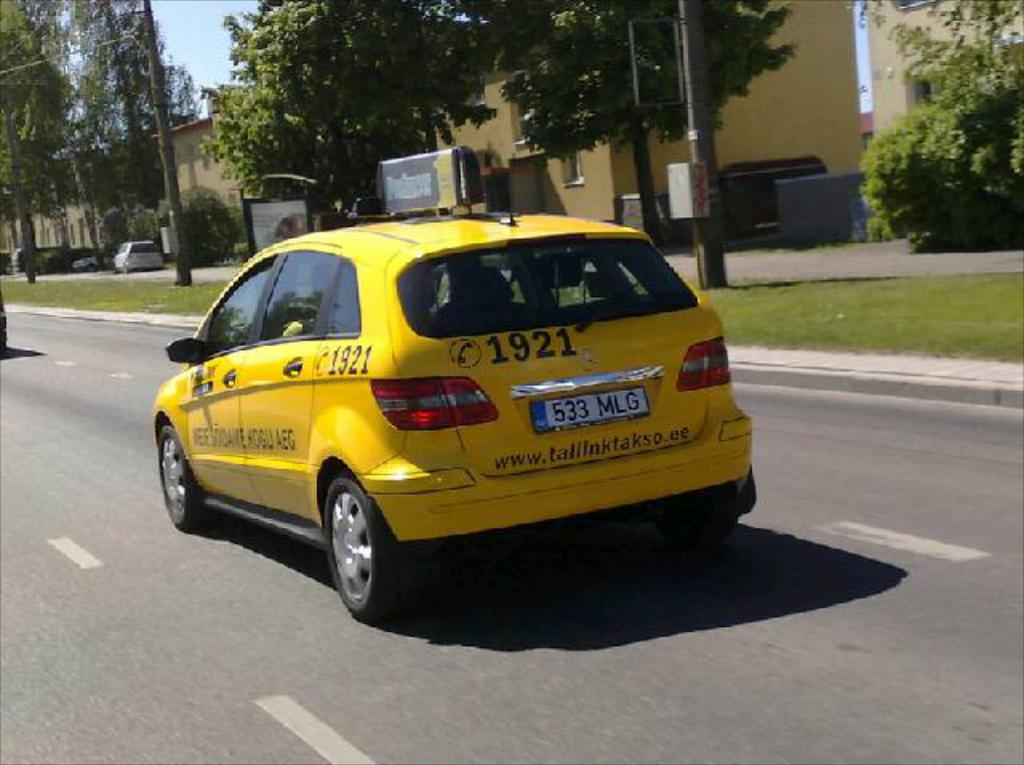taxi: (155, 147, 758, 625)
